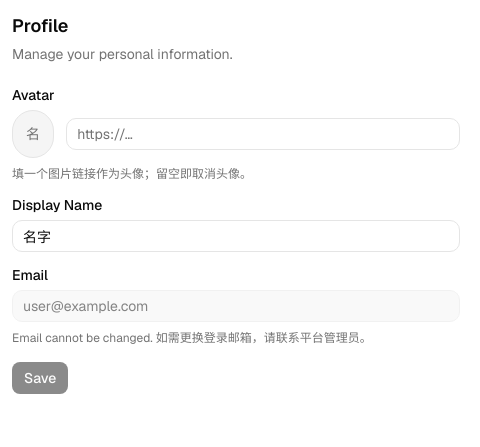
profile section › surfaces the server's reason when saving fails
Type "https://cdn.example/a.png" into the field labelled "Avatar" at (263, 134), box x1=66 y1=118 x2=460 y2=150
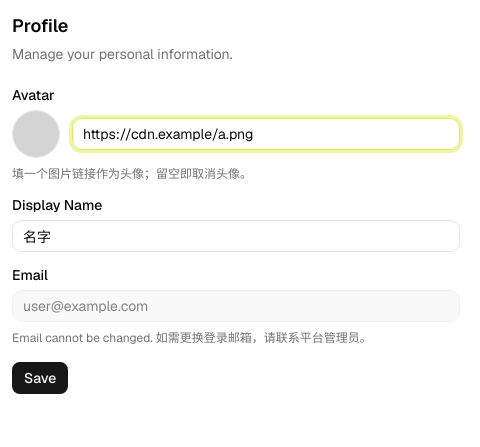
Click the button "Save" at (40, 378), box x1=12 y1=362 x2=68 y2=394
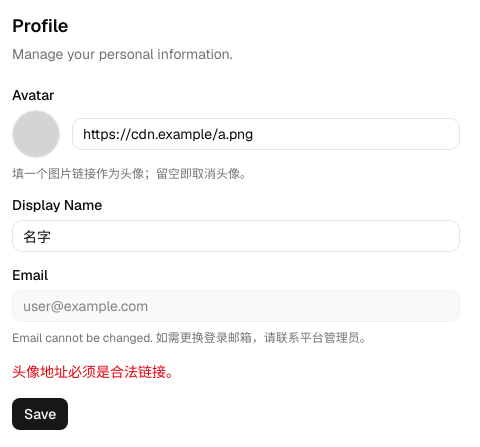
Check: the text with test id "profile-feedback" reads "头像地址必须是合法链接。", box x1=12 y1=363 x2=180 y2=381
